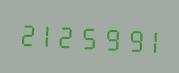five: (77, 19, 96, 53)
nine: (97, 20, 116, 54), (117, 21, 136, 55)
one: (37, 17, 56, 51), (137, 22, 156, 56)
two: (17, 16, 36, 50), (57, 18, 76, 52)
